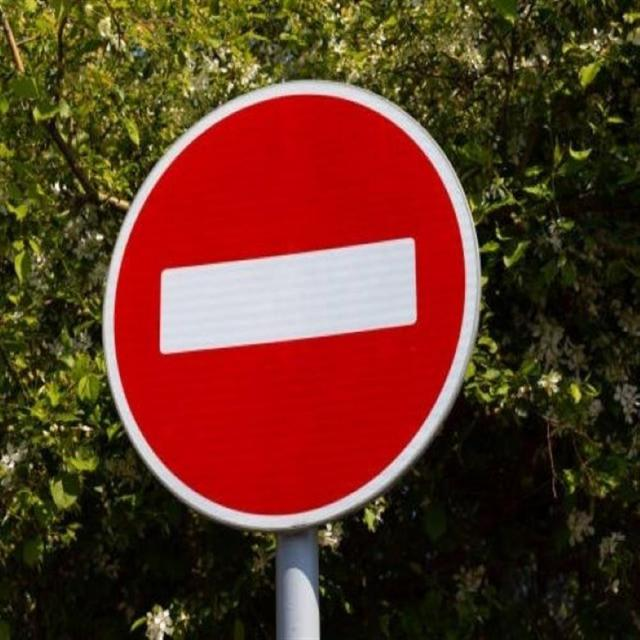no entry: (100, 74, 488, 540)
